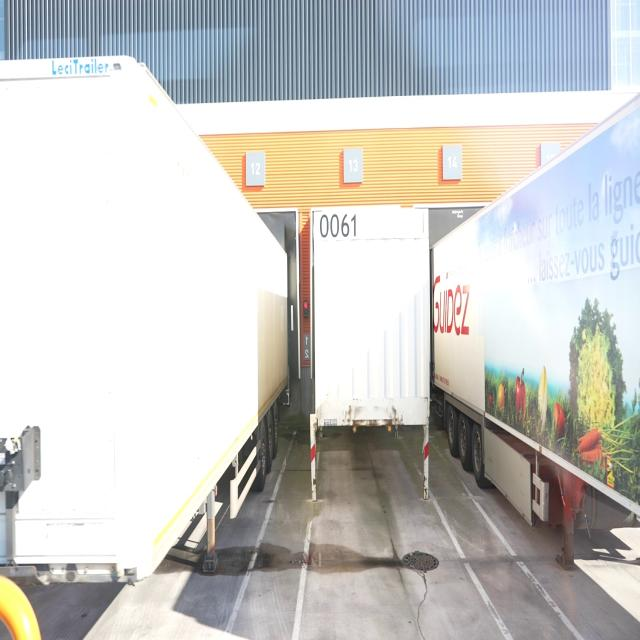Code: (316, 209, 362, 247)
